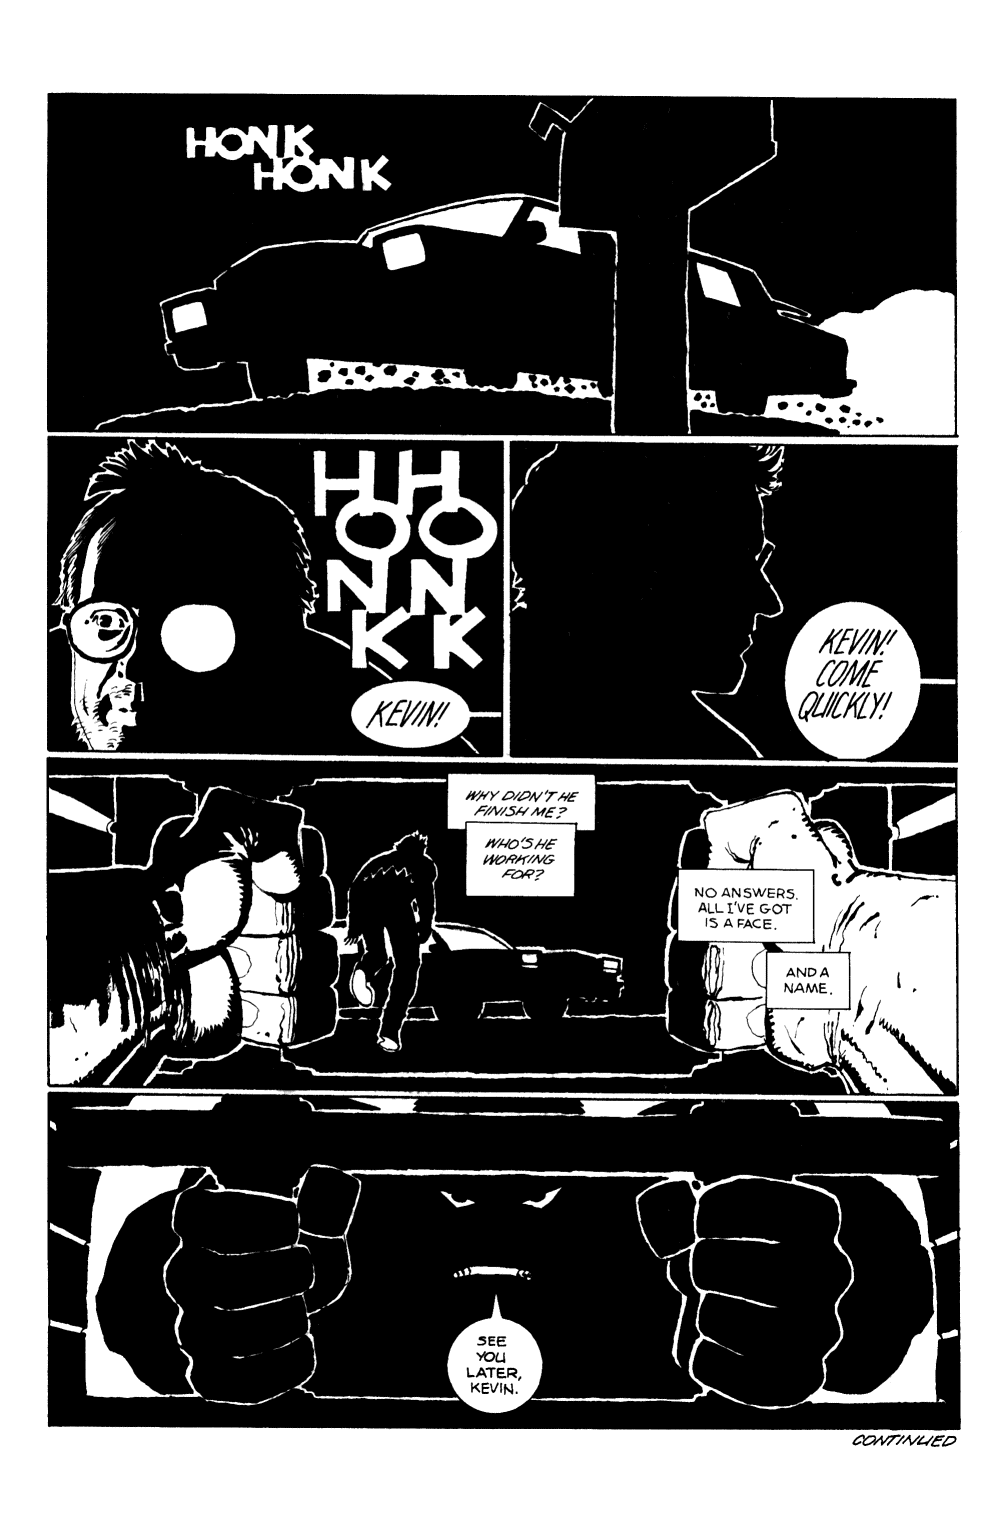Baloon: (780, 593, 924, 753), (673, 867, 816, 946), (438, 1316, 543, 1415), (445, 772, 594, 830), (345, 681, 466, 753), (466, 823, 571, 895), (769, 948, 848, 1007)
Vignetta: (45, 90, 955, 437), (50, 1090, 964, 1430), (45, 757, 959, 1095), (45, 437, 506, 757), (511, 437, 957, 762)
